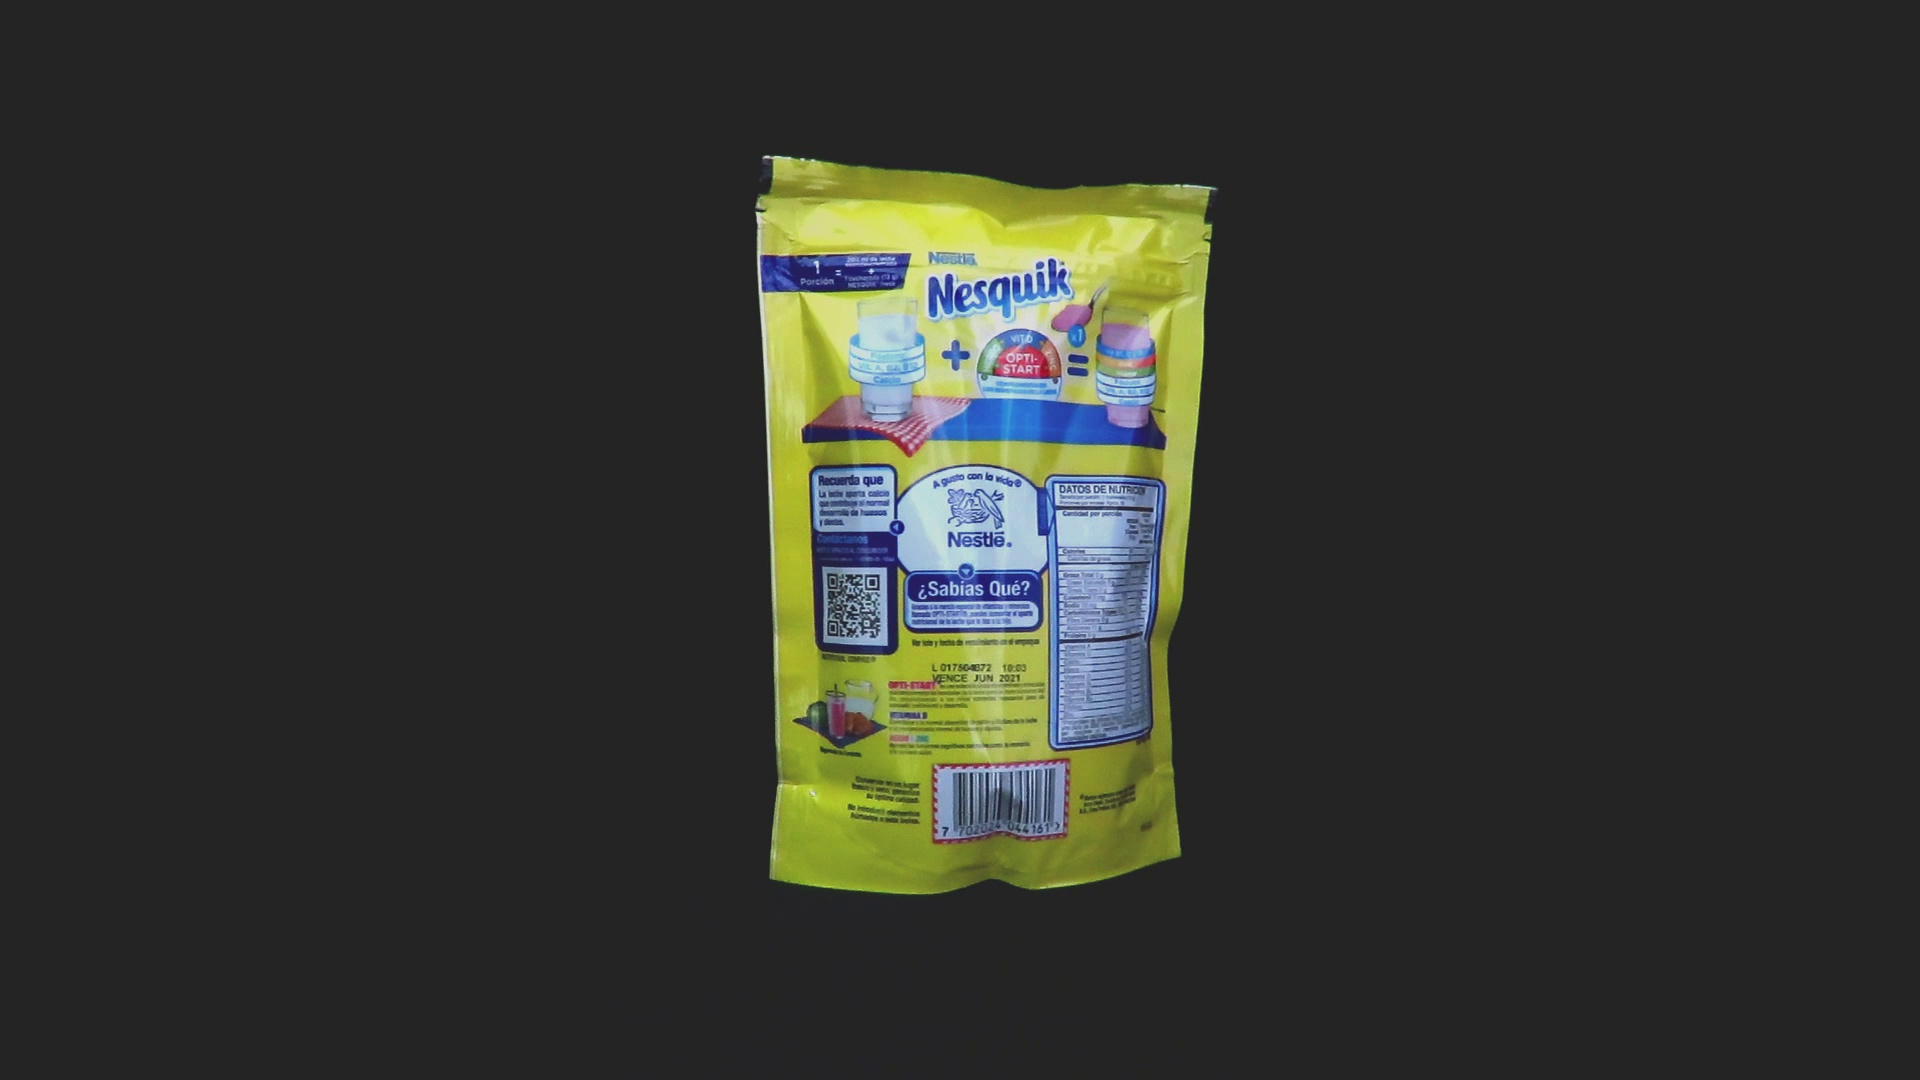COL0170305DYP20000: (750, 150, 1224, 901)
